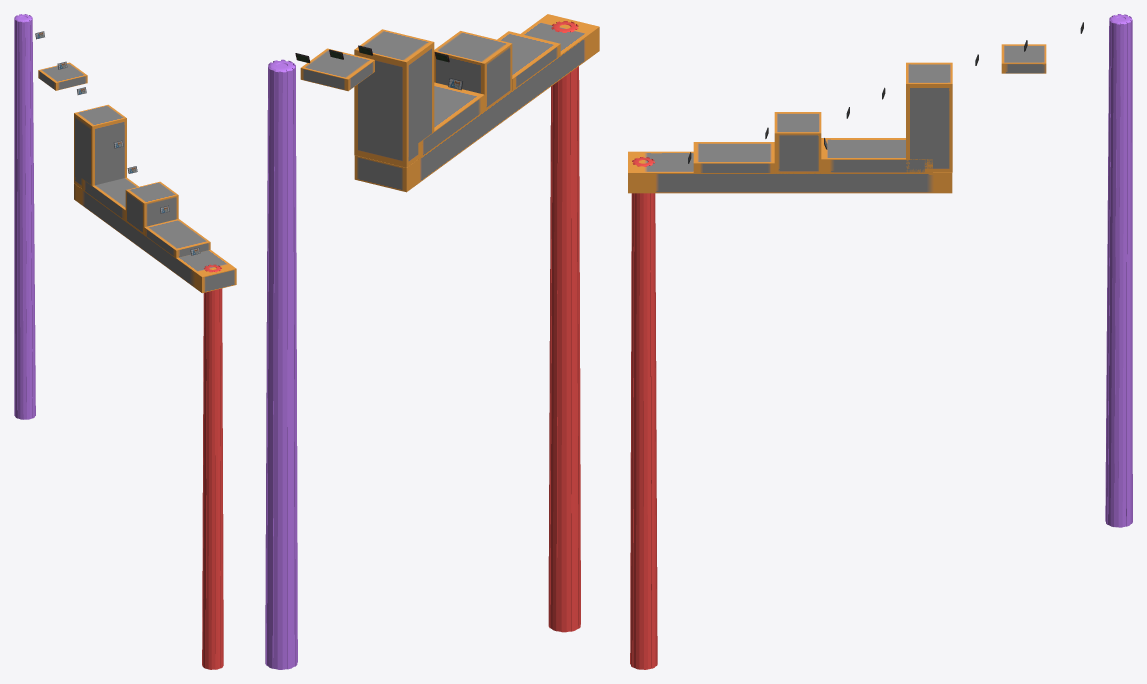
Rendered from stage1.fbx.
3 views of the same model, side by side, from view 1: azimuth 30°, elevation 25°; view 2: azimuth 150°, elevation 25°; view 3: azimuth 270°, elevation 25° (orthographic). The views are drawn at different scales.
Parts seen in each view (by area): view 1: stage1_4_2:stage1_4:group8; view 2: stage1_4_2:stage1_4:group8; view 3: stage1_4_2:stage1_4:group8.
Part boxes in pixels (x1,y1,x2,y2): stage1_4_2:stage1_4:group8: [14, 14, 236, 669]; stage1_4_2:stage1_4:group8: [265, 14, 599, 669]; stage1_4_2:stage1_4:group8: [628, 14, 1132, 669].
Size of the model in its own units: 2124 by 29997 by 21260.
